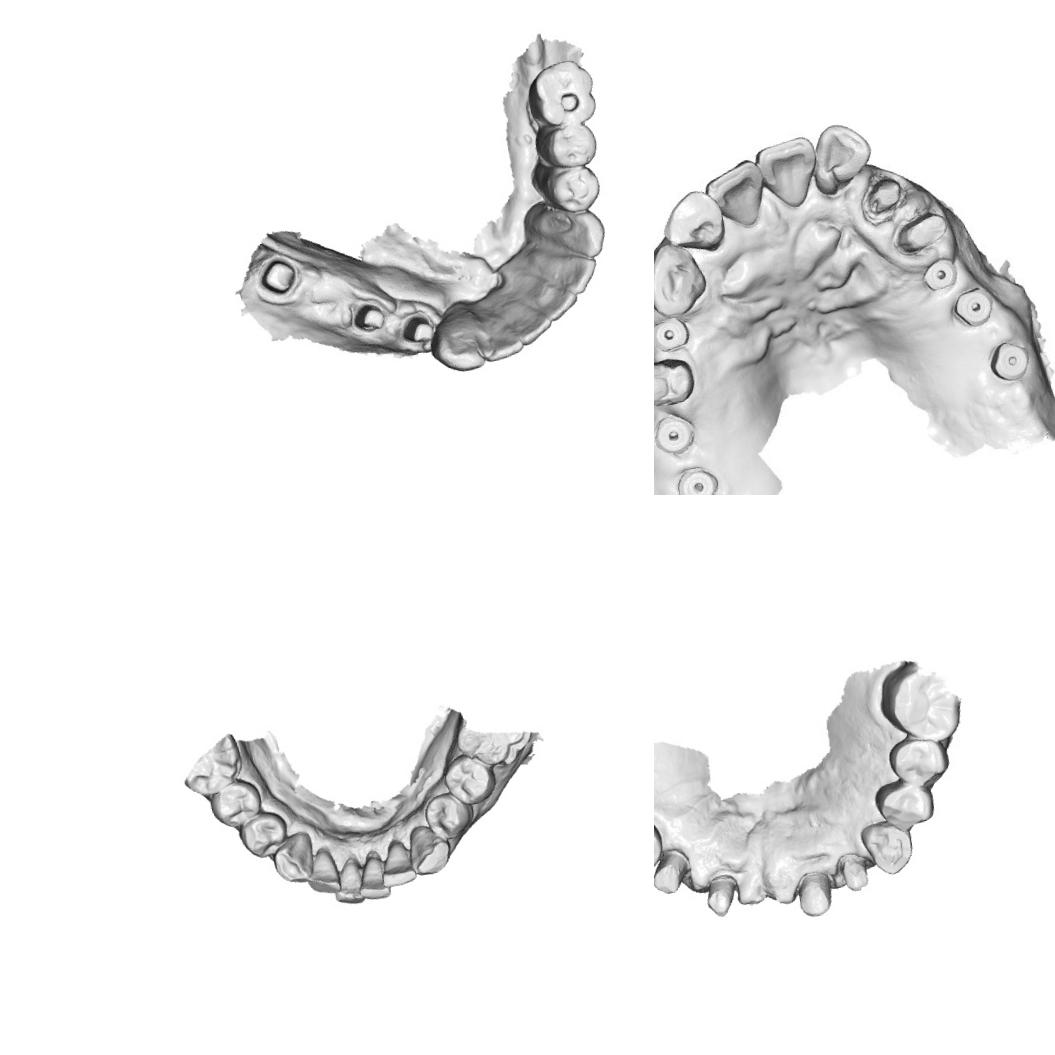abutment: (253, 250, 302, 302), (396, 309, 439, 352), (349, 299, 390, 339)
canine: (422, 303, 490, 380), (530, 203, 610, 268), (654, 235, 706, 317), (858, 816, 918, 880), (402, 820, 454, 877), (268, 828, 318, 887)
crown: (894, 210, 955, 260), (791, 868, 836, 920), (654, 845, 695, 897), (701, 871, 743, 921), (862, 173, 906, 220), (834, 849, 872, 894)
implant: (952, 284, 997, 328), (654, 312, 692, 362), (989, 340, 1030, 384), (654, 413, 694, 453), (674, 460, 719, 495), (920, 254, 954, 292)
incisor: (800, 115, 878, 202), (748, 128, 824, 216), (656, 184, 728, 260), (702, 155, 768, 233), (470, 292, 528, 364), (495, 290, 558, 350), (522, 274, 585, 328), (538, 247, 600, 301), (374, 837, 418, 890), (352, 847, 392, 904), (300, 844, 342, 898), (328, 853, 367, 907)
molar: (872, 651, 966, 751), (518, 53, 600, 132), (176, 730, 247, 800), (454, 720, 534, 773)
premolar: (532, 160, 606, 220), (870, 774, 938, 836), (884, 730, 952, 790), (438, 747, 500, 808), (534, 119, 602, 173), (205, 774, 265, 831), (420, 787, 478, 843), (234, 808, 292, 862), (654, 354, 699, 410)
